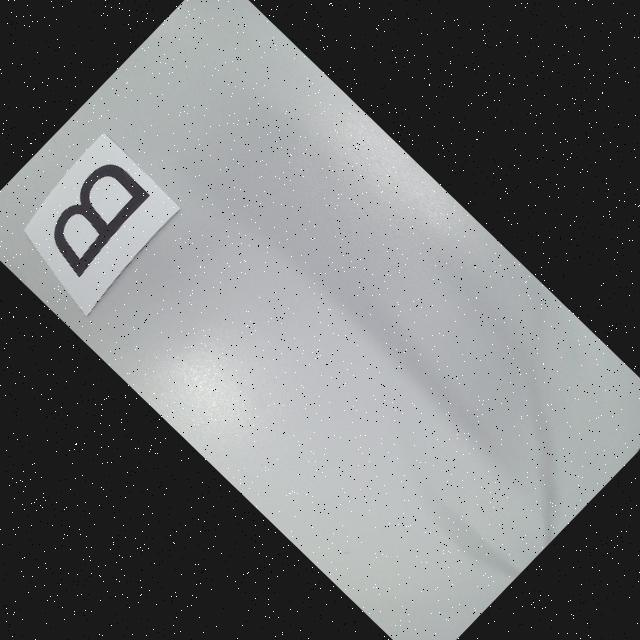FAKE: (33, 154, 156, 278)
